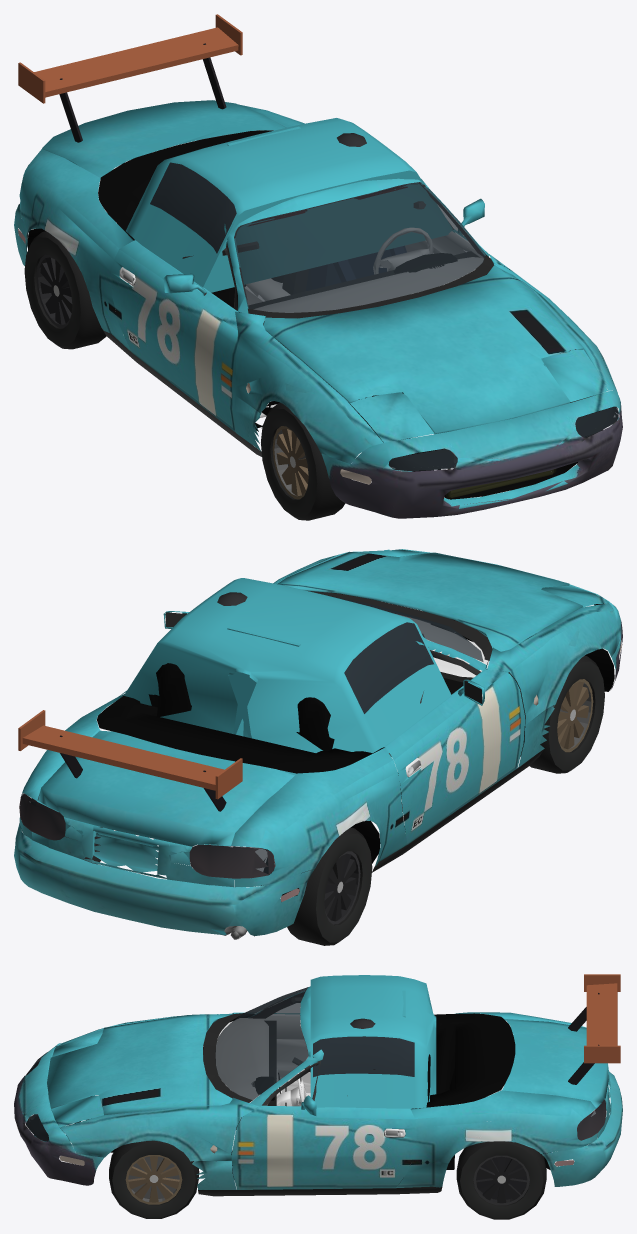
3 views of the same model, one above another, from view 1: azimuth 30°, elevation 25°; view 2: azimuth 150°, elevation 25°; view 3: azimuth 270°, elevation 25° (orthographic). The views are drawn at different scales.
Visible parts, largest first — view 1: body, wheel_rr, wheel_fr; view 2: body, wheel_rr, wheel_fr; view 3: body, wheel_rl, wheel_fl.
Boxes of the visible parts, x1=… form: body: x1=14, y1=14, x2=622, y2=518; wheel_rr: x1=24, y1=231, x2=115, y2=349; wheel_fr: x1=261, y1=403, x2=350, y2=520; body: x1=14, y1=549, x2=622, y2=939; wheel_rr: x1=282, y1=827, x2=372, y2=945; wheel_fr: x1=520, y1=655, x2=604, y2=773; body: x1=14, y1=974, x2=622, y2=1196; wheel_rl: x1=456, y1=1141, x2=546, y2=1219; wheel_fl: x1=109, y1=1140, x2=198, y2=1218.
Size of the model in its own units: 1.78 by 1.22 by 3.97.
2 materials, 1 textured.
